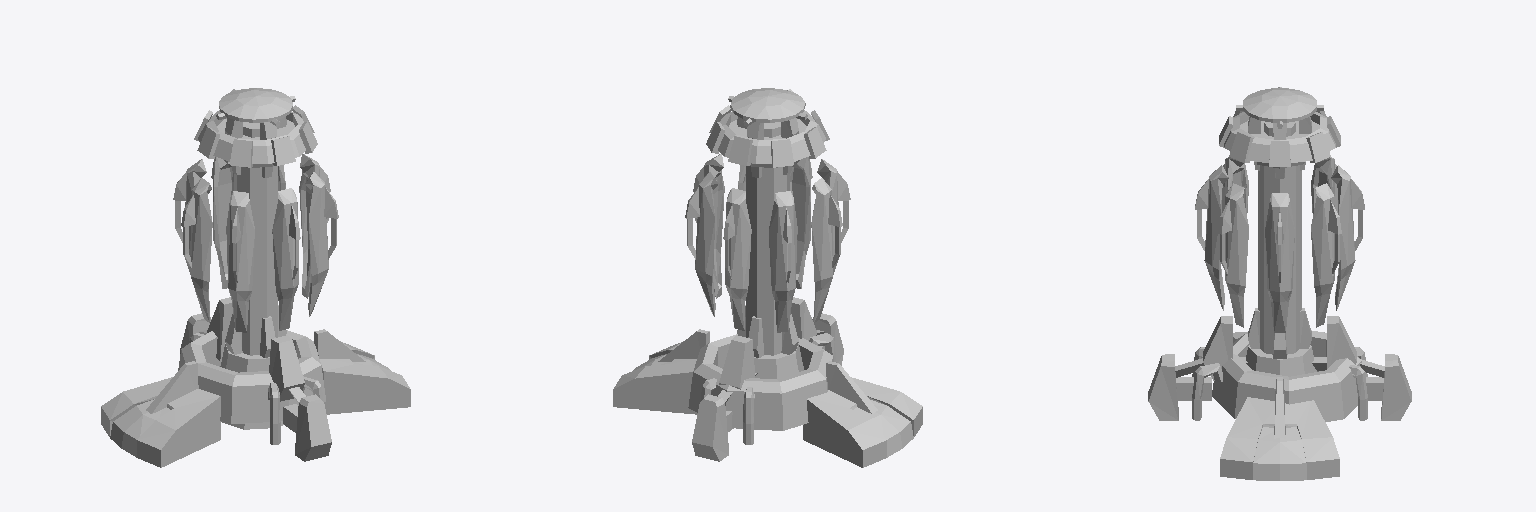
File: plasma generator.obj
3 renders of one model, left to right at view 1: azimuth 30°, elevation 25°; view 2: azimuth 150°, elevation 25°; view 3: azimuth 270°, elevation 25°, orthographic.
Parts seen in each view (by area): view 1: Object.1; view 2: Object.1; view 3: Object.1.
Boxes of the visible parts, box(x1,y1,x2,y2) form: Object.1: box(101, 88, 410, 467); Object.1: box(613, 88, 922, 467); Object.1: box(1148, 87, 1411, 480).
Size of the model in its own units: 61.58 by 69.75 by 52.07.